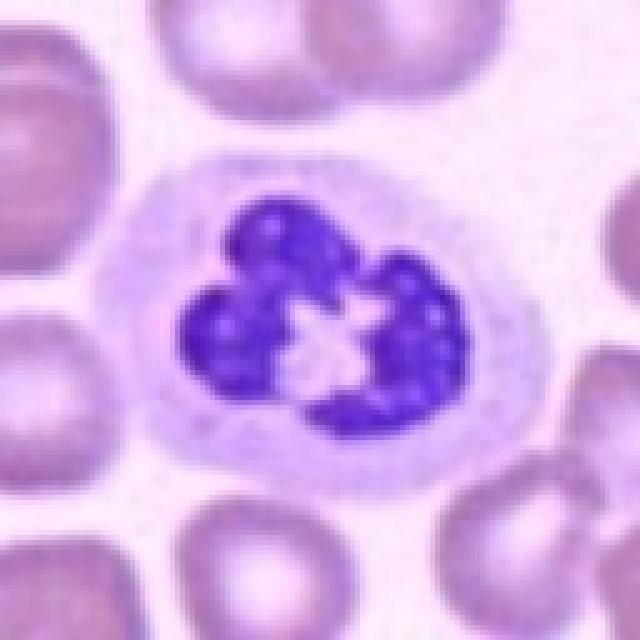neutro: (58, 49, 580, 558)
